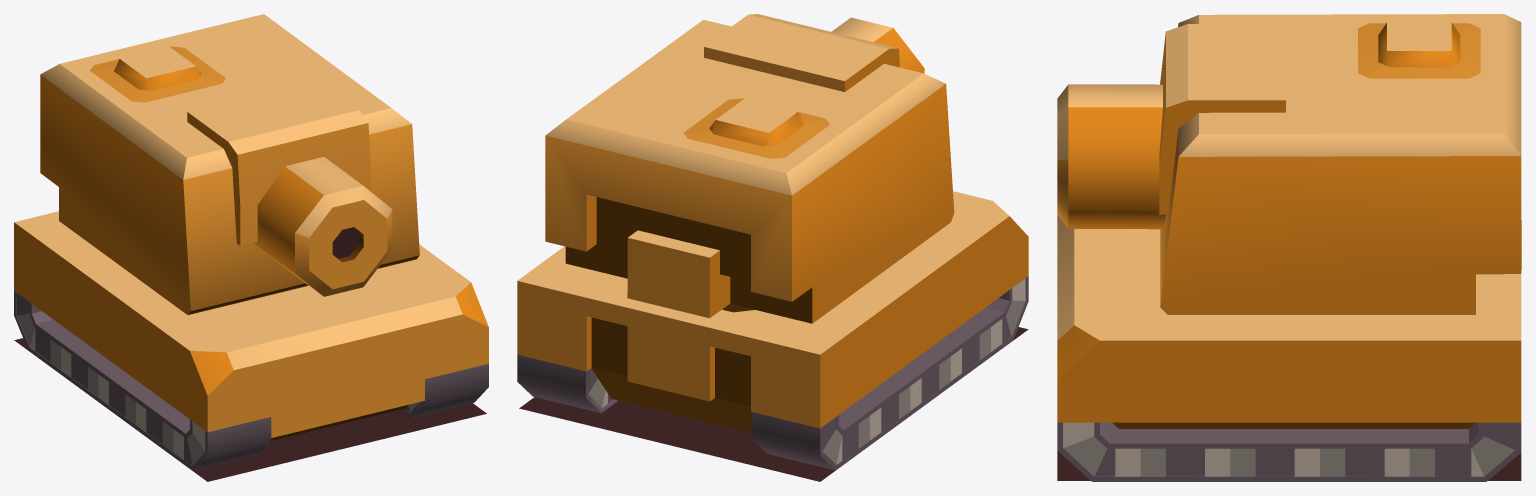
File: MediumTankMesh.AmberBlaze.glb
3 views of the same model, side by side, from view 1: azimuth 30°, elevation 25°; view 2: azimuth 150°, elevation 25°; view 3: azimuth 270°, elevation 25° (orthographic). The views are drawn at different scales.
Visible parts, largest first — view 1: MediumTankMesh.AmberBlaze; view 2: MediumTankMesh.AmberBlaze; view 3: MediumTankMesh.AmberBlaze.
Boxes of the visible parts, bbox=[...] form: MediumTankMesh.AmberBlaze: bbox=[14, 14, 488, 481]; MediumTankMesh.AmberBlaze: bbox=[517, 14, 1028, 481]; MediumTankMesh.AmberBlaze: bbox=[1057, 14, 1521, 481].
Bounding box in the file's own units: 1.72 × 1.66 × 2.05.
1 material, 1 textured.
